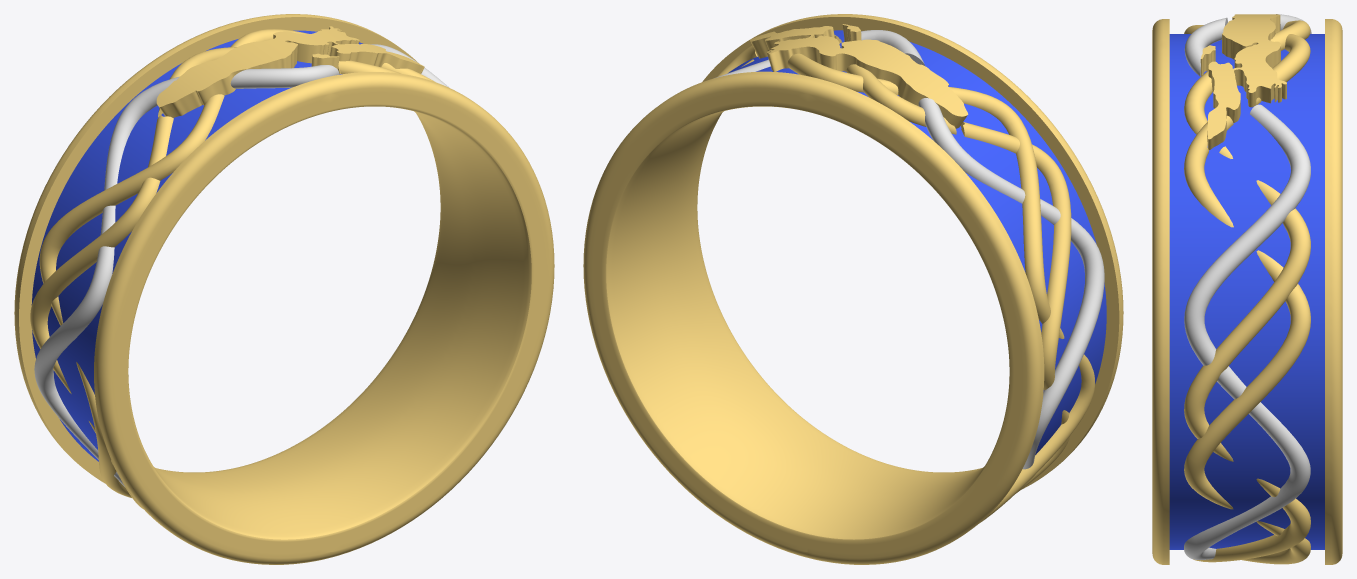
The model's file is SaraYGwbjamestown.glb.
3 views of the same model, side by side, from view 1: azimuth 30°, elevation 25°; view 2: azimuth 150°, elevation 25°; view 3: azimuth 270°, elevation 25° (orthographic). The views are drawn at different scales.
Visible parts, largest first — view 1: Sara YG for 3d model, Sara black for 3d model, Sara YG vines for 3d model; view 2: Sara YG for 3d model, Sara black for 3d model, Sara YG vines for 3d model; view 3: Sara black for 3d model, Sara YG for 3d model, Sara YG vines for 3d model.
Part boxes in pixels (bbox=[...]): Sara YG for 3d model: bbox=[14, 14, 554, 564]; Sara black for 3d model: bbox=[31, 30, 362, 461]; Sara YG vines for 3d model: bbox=[34, 44, 449, 486]; Sara YG for 3d model: bbox=[583, 14, 1123, 564]; Sara black for 3d model: bbox=[728, 30, 1106, 454]; Sara YG vines for 3d model: bbox=[714, 30, 1104, 469]; Sara black for 3d model: bbox=[1169, 34, 1324, 549]; Sara YG for 3d model: bbox=[1152, 14, 1342, 564]; Sara YG vines for 3d model: bbox=[1184, 14, 1311, 560].
Bounding box in the file's own units: 24.73 × 24.66 × 8.5.
